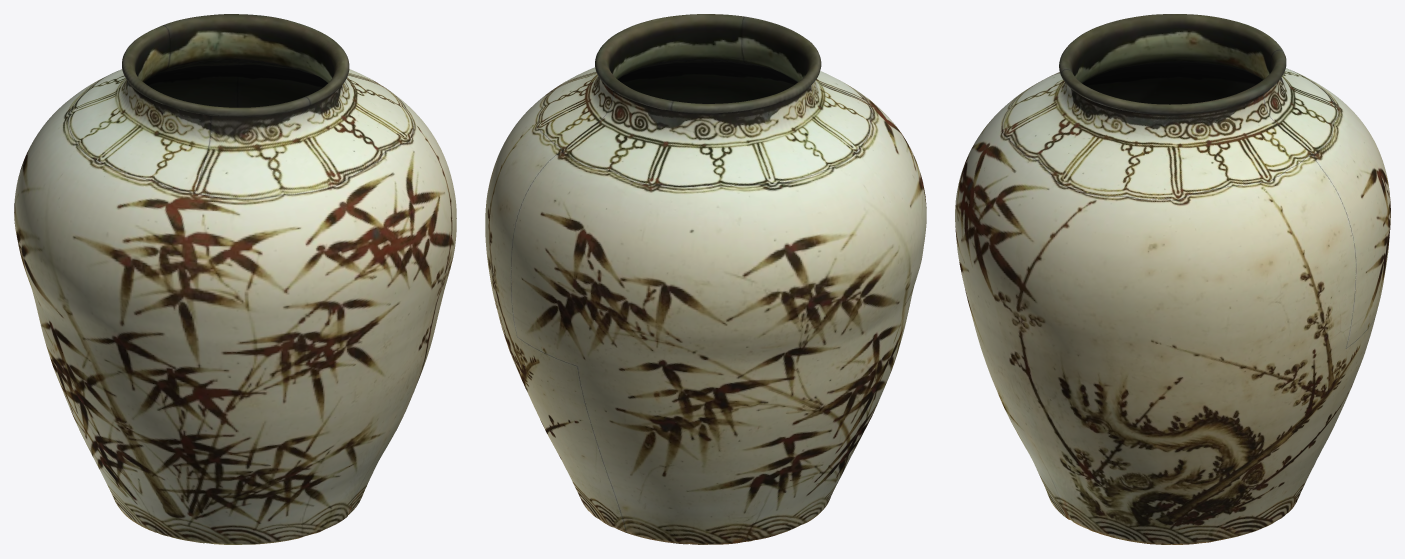
Rendered from nmk-1484.glb.
3 views of the same model, side by side, from view 1: azimuth 30°, elevation 25°; view 2: azimuth 150°, elevation 25°; view 3: azimuth 270°, elevation 25° (orthographic).
Visible parts, largest first — view 1: duk006294-000-30000; view 2: duk006294-000-30000; view 3: duk006294-000-30000.
Boxes of the visible parts, <box> form: duk006294-000-30000: <box>14,14,456,544</box>; duk006294-000-30000: <box>485,14,926,544</box>; duk006294-000-30000: <box>955,14,1390,544</box>.
Size of the model in its own units: 1.13 by 1.22 by 1.11.
Materials: 1 (1 with a texture image).
